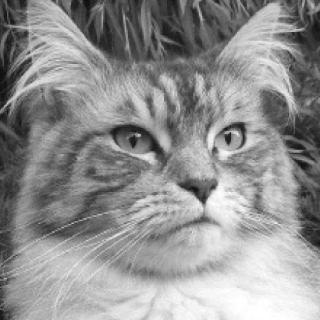cat: (21, 0, 298, 281)
nose: (167, 156, 223, 211)
